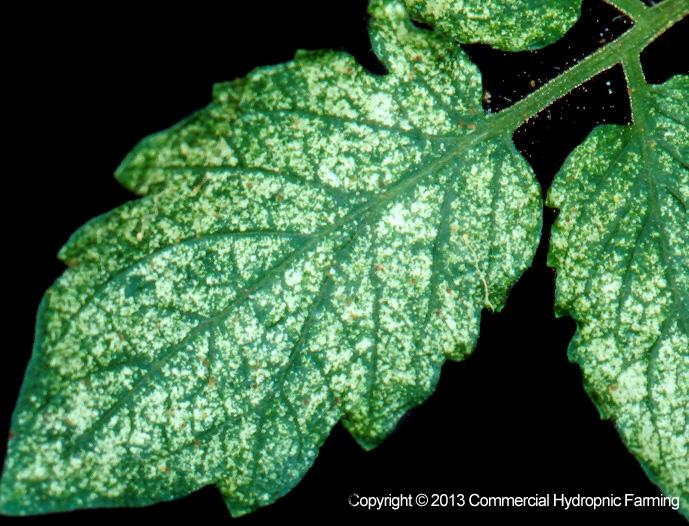Spider Mites: (0, 0, 543, 526), (550, 71, 689, 526)
